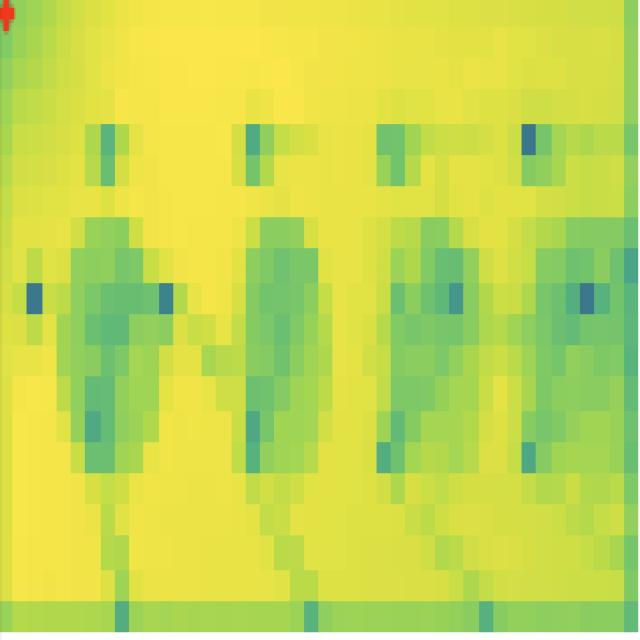Concrete: (525, 211, 629, 481)
Glass: (379, 218, 489, 484)
Metal: (54, 211, 166, 483)
Wood: (232, 212, 334, 499)
